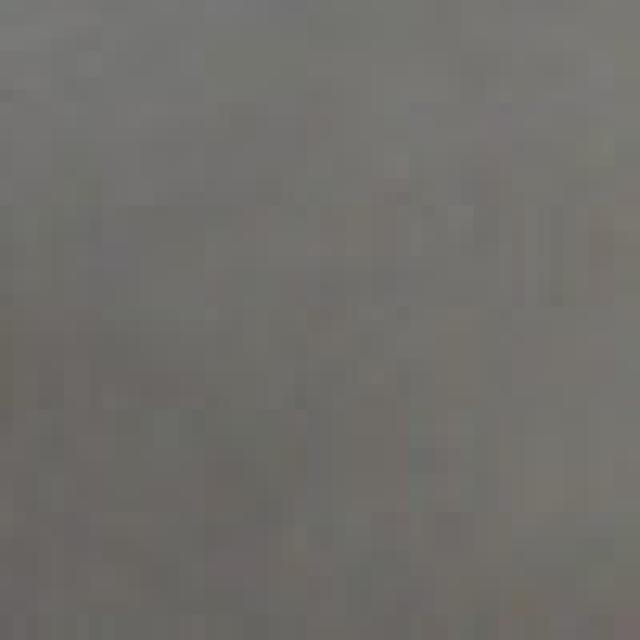fire: (11, 20, 592, 587)
